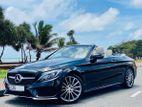car: (3, 34, 139, 104)
